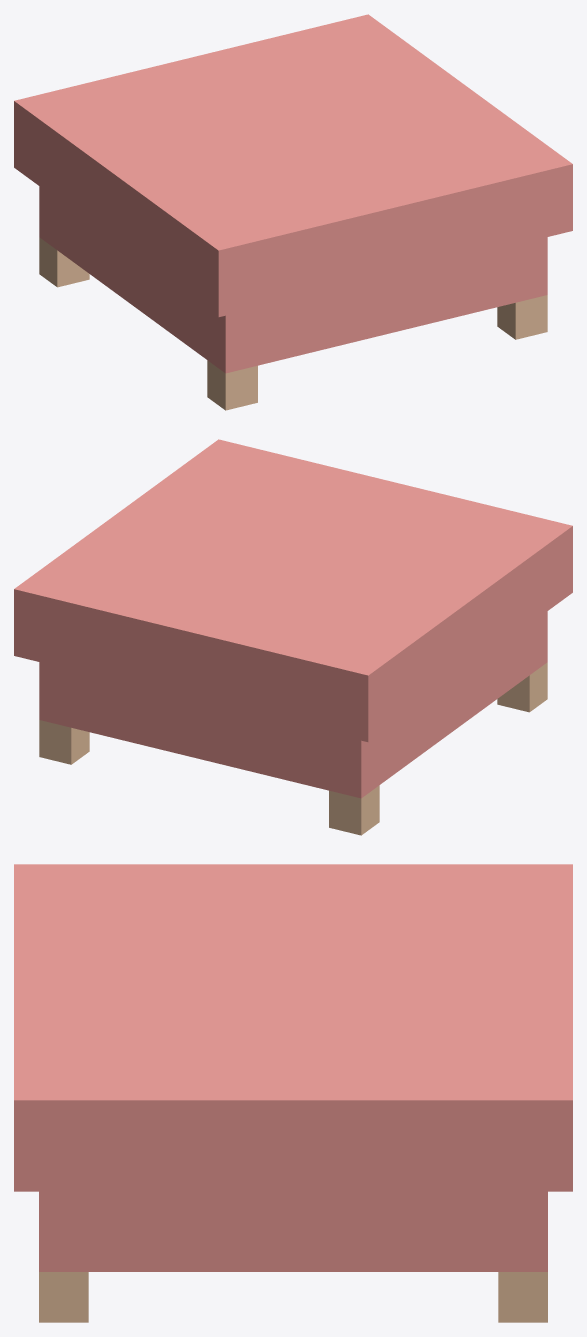
The model's file is loungeSofaOttoman-alt-col.glb.
3 renders of one model, top to bottom at view 1: azimuth 30°, elevation 25°; view 2: azimuth 150°, elevation 25°; view 3: azimuth 270°, elevation 25°, orthographic. The views are drawn at different scales.
Visible parts, largest first — view 1: loungeSofaOttoman-alt-col; view 2: loungeSofaOttoman-alt-col; view 3: loungeSofaOttoman-alt-col.
Boxes of the visible parts, bbox=[...] form: loungeSofaOttoman-alt-col: bbox=[14, 14, 572, 410]; loungeSofaOttoman-alt-col: bbox=[14, 439, 572, 835]; loungeSofaOttoman-alt-col: bbox=[14, 864, 572, 1322].
Size of the model in its own units: 0.5 by 0.23 by 0.5.
